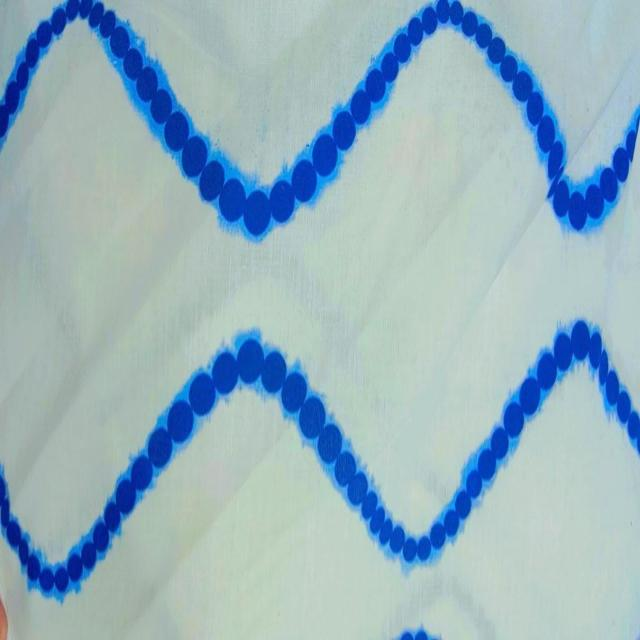color issues: (0, 323, 639, 601), (0, 3, 640, 241)
